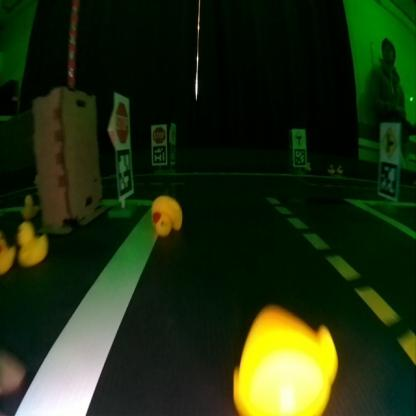Duckie: (232, 305, 336, 413), (151, 195, 181, 235), (16, 228, 46, 264), (1, 236, 15, 272), (21, 195, 38, 217), (336, 164, 342, 172), (328, 164, 334, 172)
Intersection sign: (382, 125, 396, 158), (293, 130, 305, 146)
QR code: (115, 150, 133, 198), (378, 163, 397, 198), (152, 146, 165, 164), (293, 148, 306, 165), (169, 144, 175, 163)
Stop sign: (114, 98, 128, 143), (153, 127, 164, 143)
